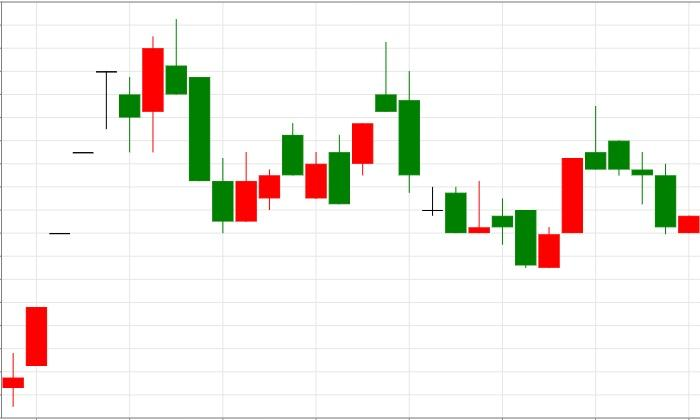shooting_star_fall: (515, 106, 606, 269)
